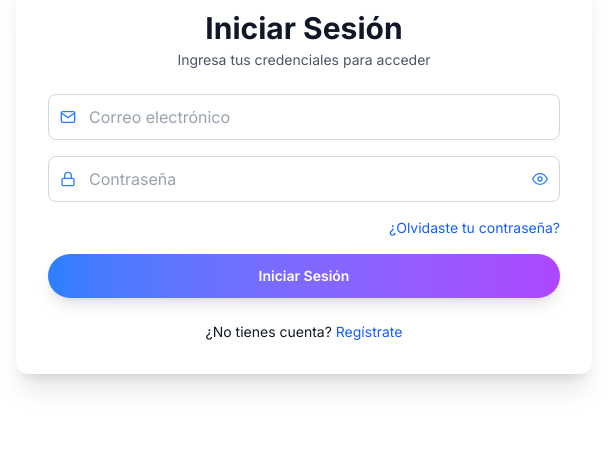
Test: LoginForm › debe mostrar error genérico si el backend no responde con estructura esperada
The width and height of the screenshot is (609, 452).
Type "sin-estructura@test.com" into the field with placeholder "Correo electrónico" at (304, 117), box [48, 94, 560, 140]
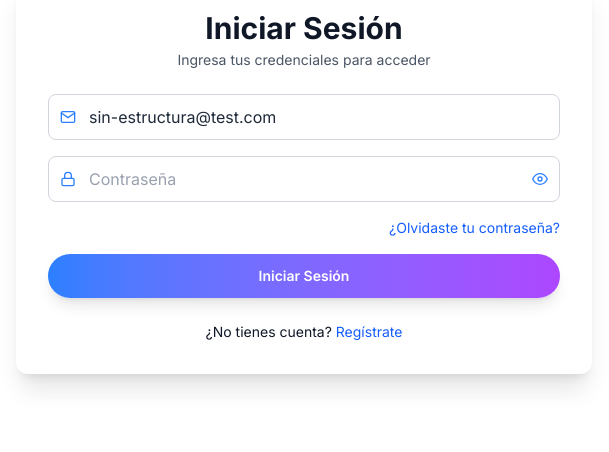
Type "123456" into the password field with placeholder "Contraseña" at (304, 179), box [48, 156, 560, 202]
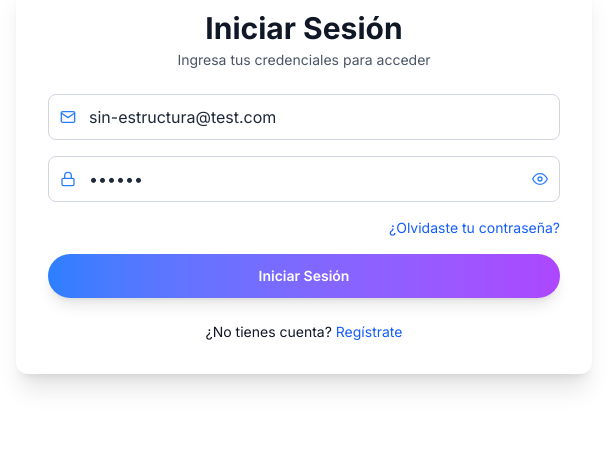
Click the button "Iniciar Sesión" at (304, 276), box [48, 254, 560, 298]
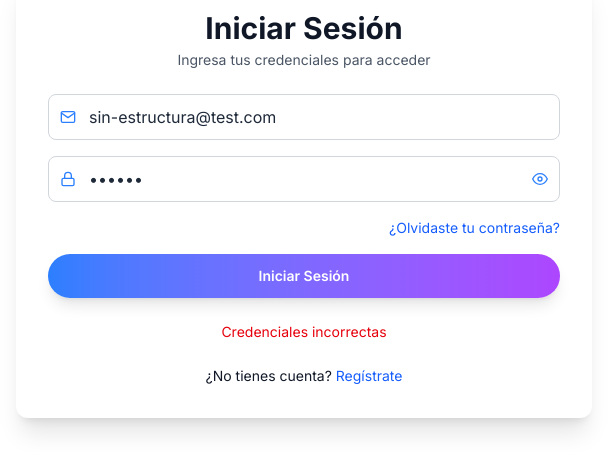
Now the text "Credenciales incorrectas" is shown, box [221, 323, 387, 340]
